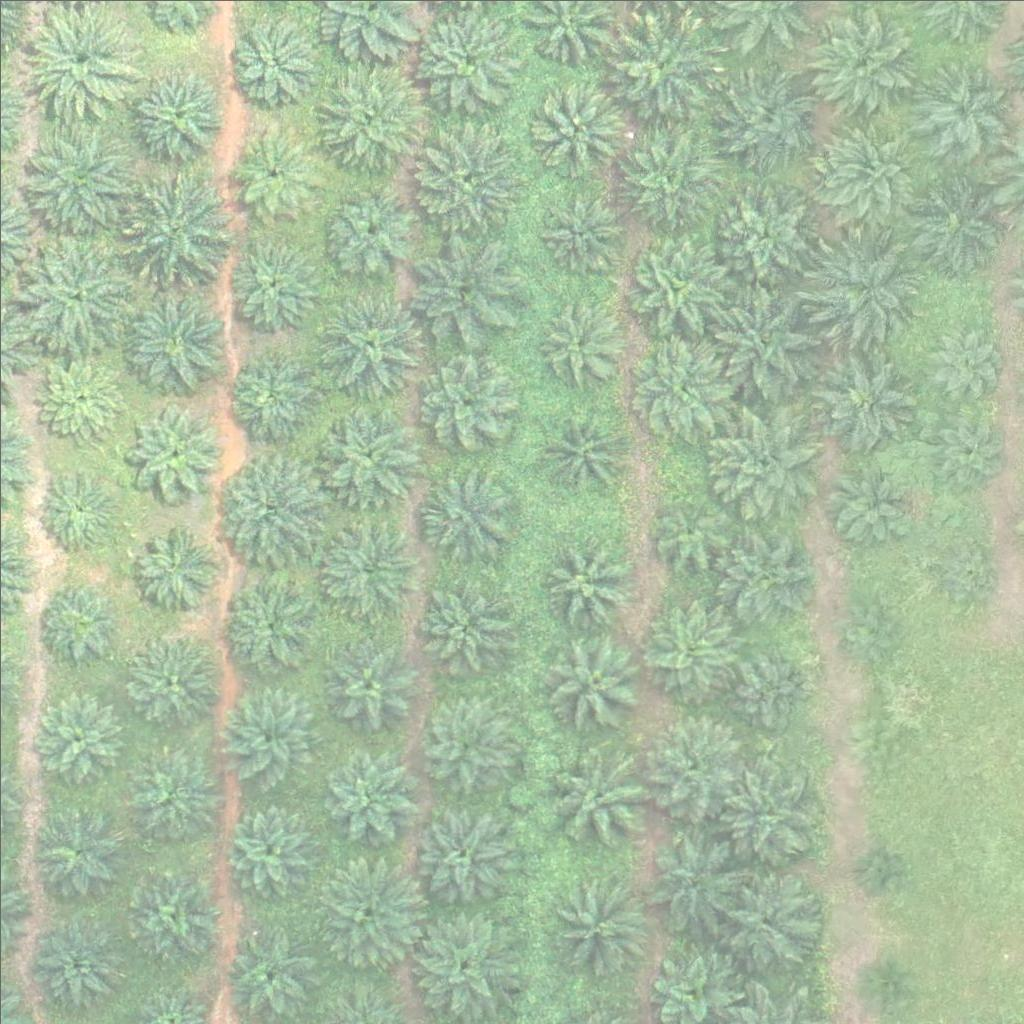Kelapa_Sawit: (898, 161, 1011, 275), (902, 53, 1015, 167), (311, 397, 424, 511), (211, 451, 324, 565), (114, 281, 227, 395), (122, 168, 235, 282), (806, 2, 919, 116), (308, 857, 421, 970), (403, 799, 516, 912), (706, 765, 819, 878), (705, 404, 818, 517), (405, 117, 518, 230), (116, 60, 229, 173), (706, 863, 818, 977), (17, 236, 129, 350), (20, 124, 132, 238), (210, 682, 322, 795), (812, 342, 924, 455), (811, 227, 923, 340), (706, 280, 818, 393), (709, 62, 821, 175), (605, 110, 717, 223), (406, 238, 518, 351), (313, 291, 425, 404), (316, 60, 428, 173), (608, 6, 720, 119), (26, 914, 126, 1015), (26, 802, 126, 903), (121, 745, 221, 846), (120, 632, 220, 733), (220, 795, 320, 896), (317, 744, 417, 845), (640, 604, 740, 705), (710, 643, 810, 744), (915, 396, 1015, 497), (710, 520, 810, 621), (711, 179, 811, 280), (622, 334, 722, 435), (624, 237, 724, 338), (532, 395, 632, 496), (525, 77, 625, 178), (416, 354, 516, 455), (319, 183, 419, 284), (413, 698, 513, 798), (413, 576, 513, 676), (542, 878, 642, 978), (542, 743, 642, 843), (538, 629, 638, 729), (642, 715, 742, 815), (815, 119, 915, 219), (408, 468, 508, 568), (316, 520, 416, 620), (222, 346, 322, 446), (222, 232, 322, 332), (125, 400, 225, 500), (225, 931, 313, 1020), (648, 837, 736, 925), (826, 461, 914, 549), (229, 12, 317, 100), (130, 521, 218, 609), (32, 467, 120, 555), (35, 353, 123, 441), (33, 694, 120, 783), (535, 186, 622, 275), (127, 873, 214, 961), (325, 637, 412, 725), (225, 582, 312, 670), (532, 300, 619, 388), (230, 128, 317, 216), (35, 579, 122, 667), (543, 539, 618, 615), (648, 495, 723, 570), (935, 330, 998, 393), (932, 531, 994, 594), (850, 705, 900, 756), (841, 613, 891, 664), (857, 965, 907, 1015), (853, 839, 903, 889)
